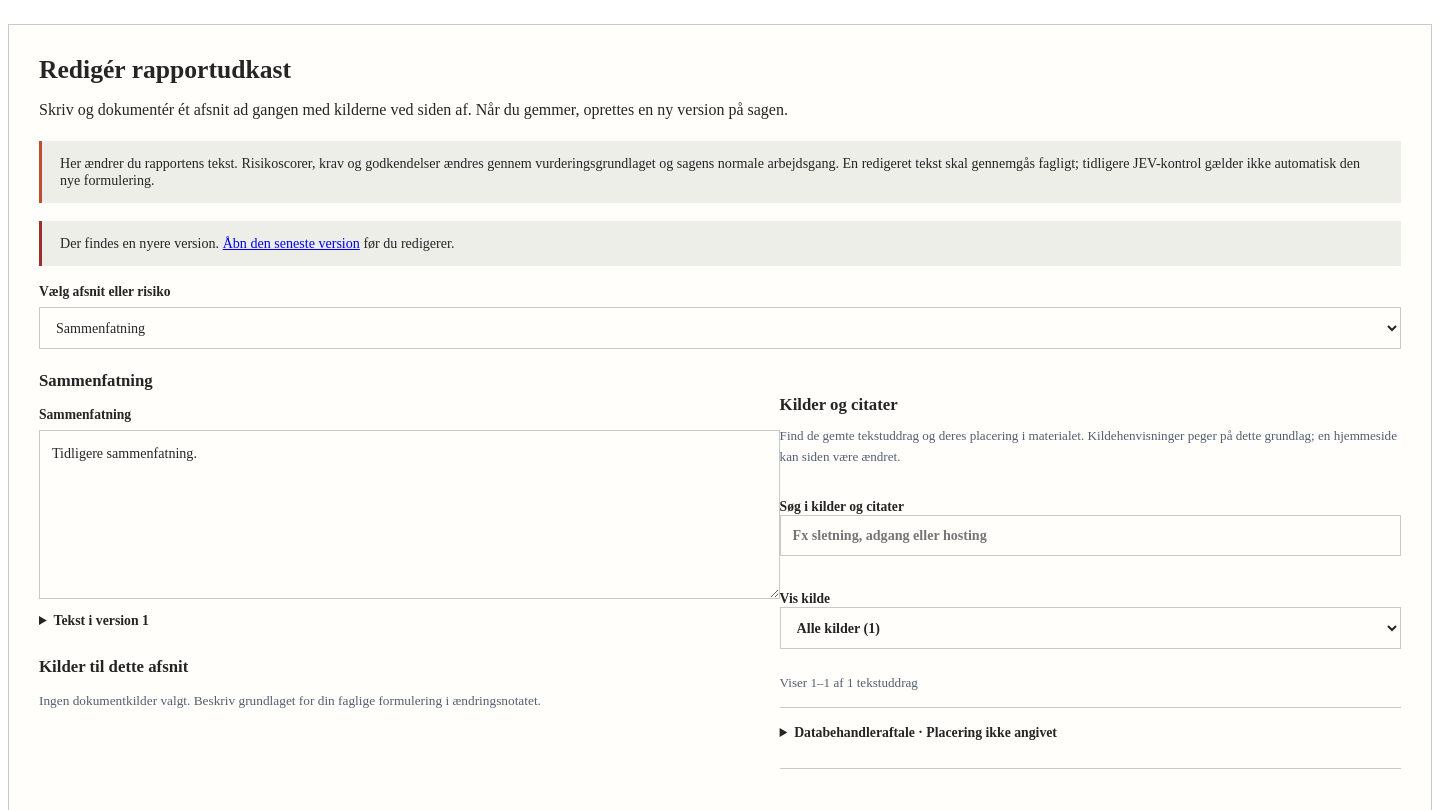
Test: beskytter låste mangler og en forældet rapportversion
Expected: the text box labelled "Sammenfatning" is disabled, [39,430,780,599]
Select "1.2 · Manglende grundlag · kræver ændret grundlag" in the dropdown labelled "Vælg afsnit eller risiko" at (720, 328), box [39,307,1401,349]
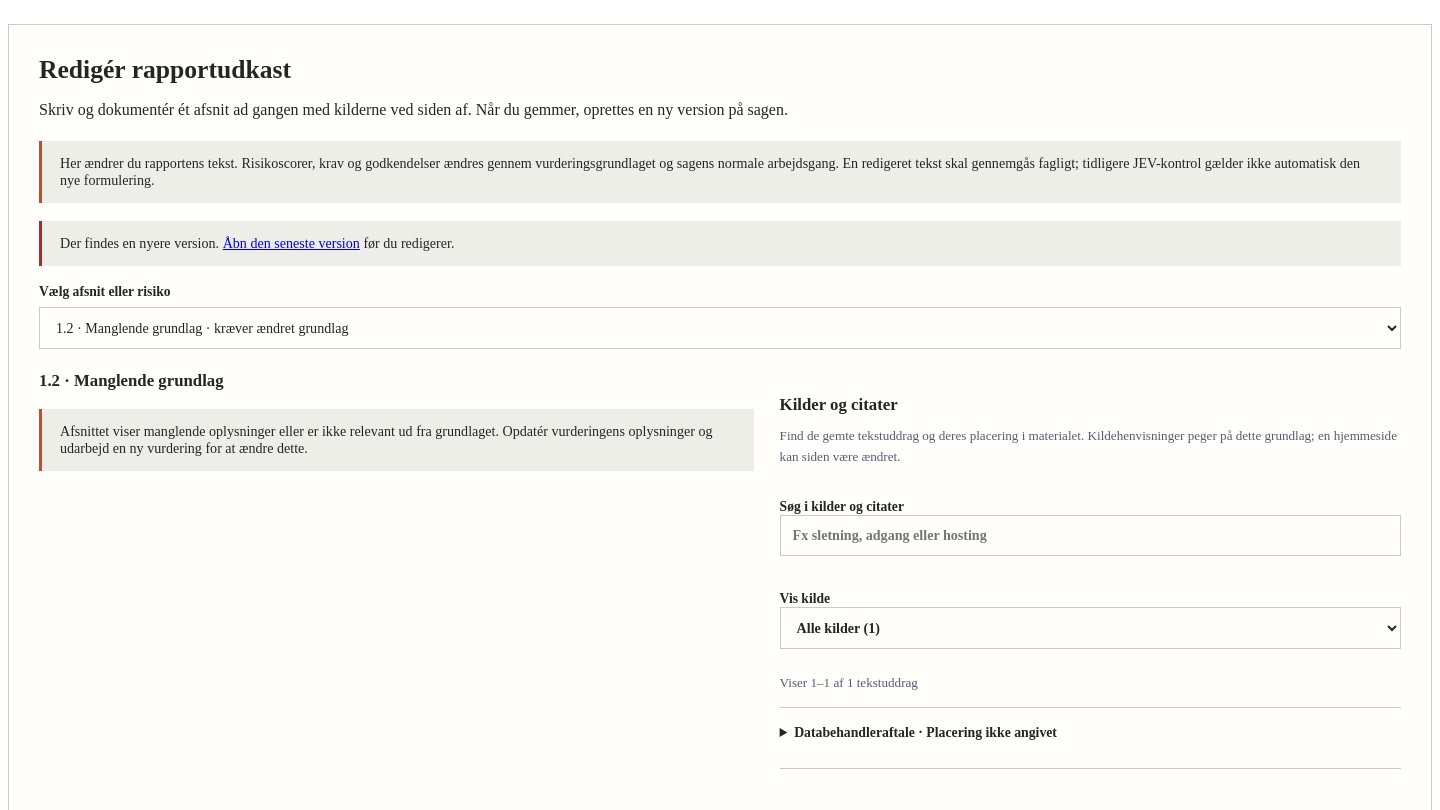
Now the text "Afsnittet viser manglende oplysninger" is shown, box [60,423,712,456]
